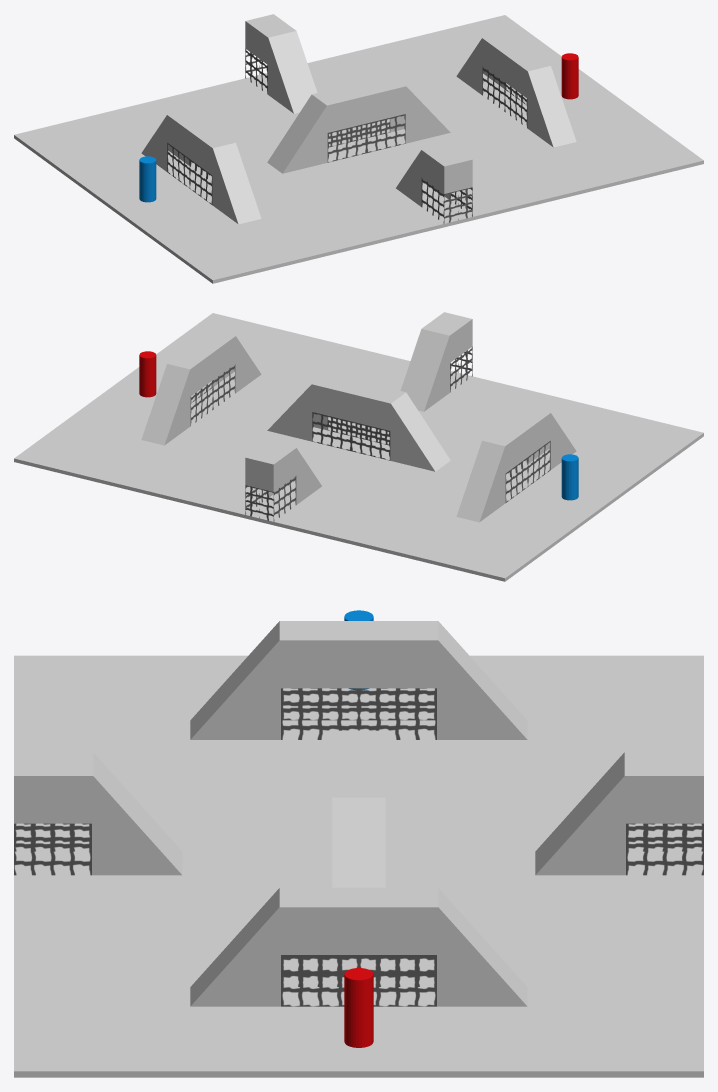
Rendered from 1v1camp.glb.
The picture shows the model from 3 angles, top to bottom: view 1: azimuth 30°, elevation 25°; view 2: azimuth 150°, elevation 25°; view 3: azimuth 270°, elevation 25°; orthographic projection. The views are drawn at different scales.
Visible parts, largest first — view 1: stage3, blueteam_3.1, redteam_3.1; view 2: stage3, blueteam_3.1, redteam_3.1; view 3: stage3, redteam_3.1.
Boxes of the visible parts, box(x1,y1,x2,y2) form: stage3: box(14, 14, 703, 283); blueteam_3.1: box(139, 156, 156, 202); redteam_3.1: box(561, 53, 578, 99); stage3: box(14, 312, 703, 581); blueteam_3.1: box(561, 454, 578, 500); redteam_3.1: box(139, 351, 156, 397); stage3: box(14, 621, 703, 1077); redteam_3.1: box(344, 968, 373, 1047).
Size of the model in its own units: 1.85 by 0.2186 by 1.29.
Materials: 4 (1 with a texture image).
